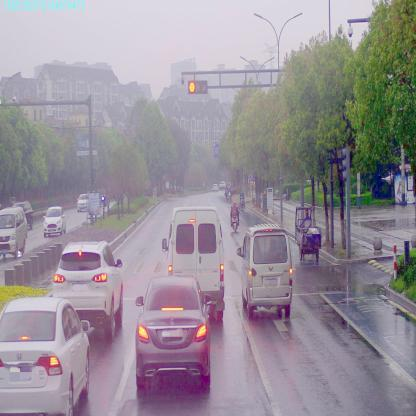traffic-light: (188, 82, 208, 93)
